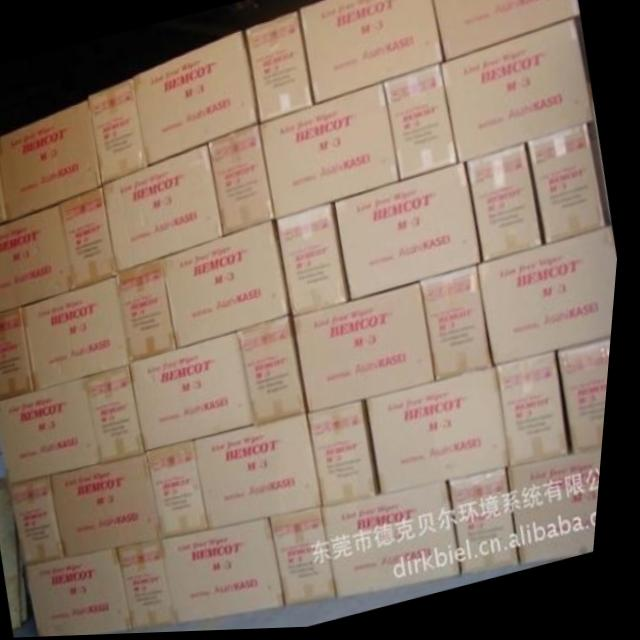box: (442, 23, 596, 166), (336, 165, 487, 304), (481, 230, 622, 370), (297, 285, 441, 415), (262, 86, 402, 219), (371, 370, 516, 497), (135, 31, 260, 167), (165, 222, 295, 350), (332, 485, 470, 600), (105, 146, 228, 272), (299, 0, 444, 106), (137, 332, 262, 453), (201, 415, 330, 530), (172, 519, 295, 624), (0, 102, 103, 221), (57, 455, 172, 559), (27, 278, 134, 388), (2, 378, 107, 485), (514, 452, 610, 569), (529, 128, 610, 248), (34, 549, 143, 637), (433, 0, 581, 64), (469, 148, 545, 265), (384, 67, 460, 182), (501, 356, 576, 470), (0, 204, 78, 312), (279, 205, 354, 316), (426, 269, 498, 382), (456, 471, 529, 578), (246, 11, 314, 123), (316, 402, 386, 507), (211, 125, 276, 238), (247, 318, 312, 426), (279, 508, 347, 608), (91, 77, 151, 183), (121, 259, 182, 363), (563, 341, 617, 457), (154, 442, 218, 538), (92, 367, 152, 464), (65, 188, 119, 288), (127, 541, 188, 629), (17, 476, 73, 564), (0, 307, 42, 399), (0, 165, 9, 224)
